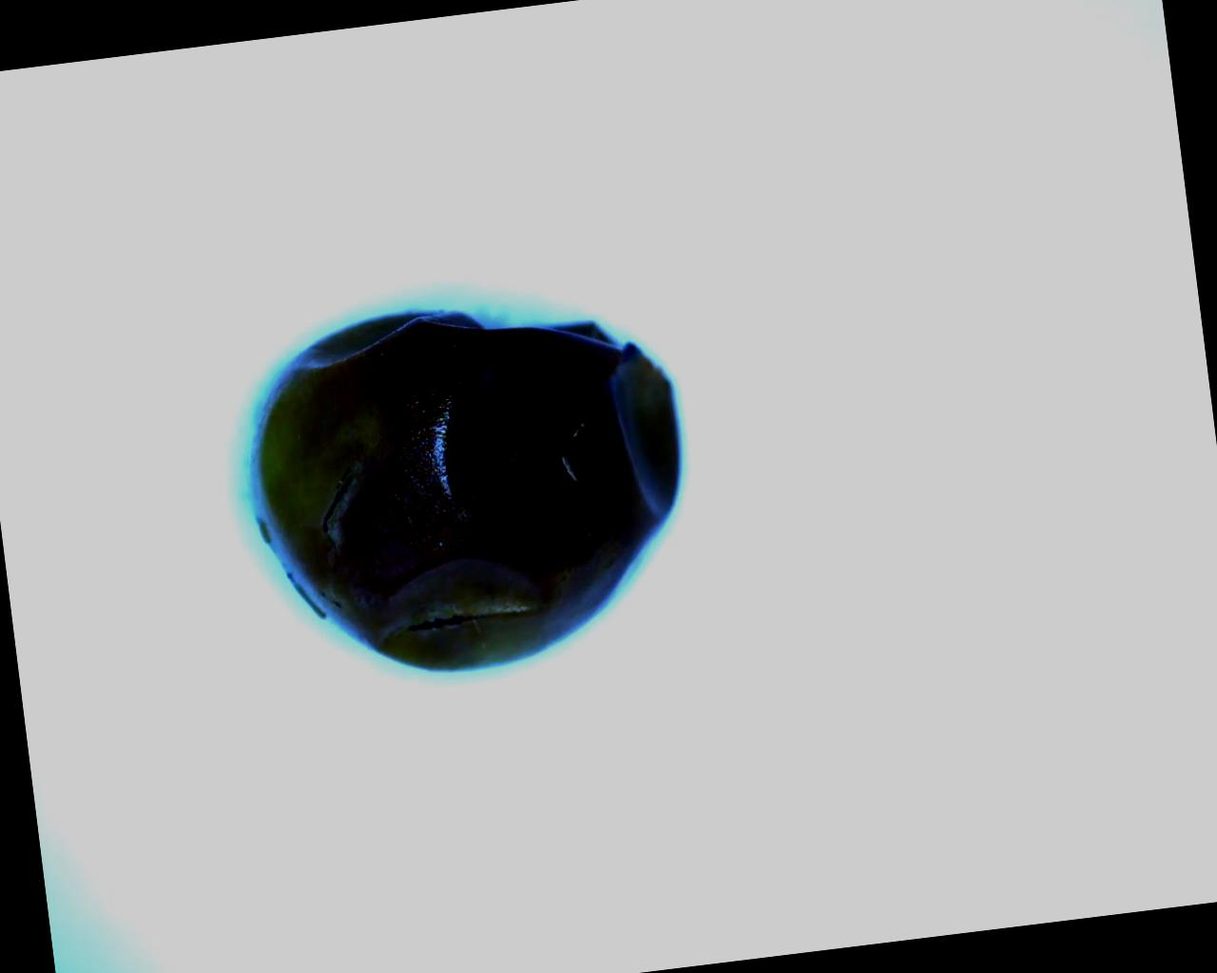Grape Rotten: (227, 277, 707, 695)
